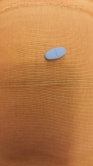Majezik: (44, 47, 67, 61)
